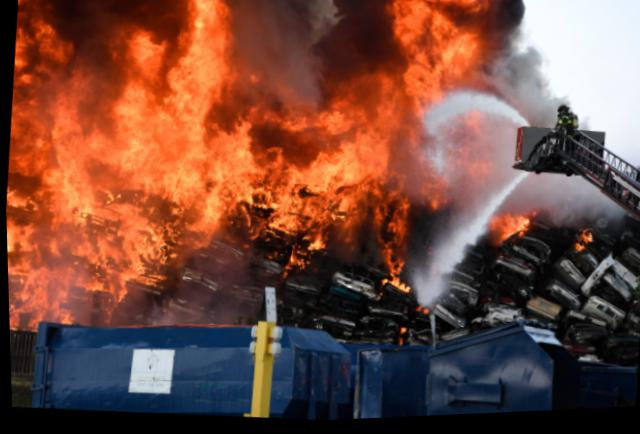fire: (2, 76, 107, 331), (211, 98, 405, 226), (87, 36, 175, 281), (155, 0, 226, 218), (404, 0, 475, 92), (12, 12, 72, 79)
smoke: (235, 0, 391, 76), (515, 50, 556, 131), (523, 185, 606, 222), (266, 67, 362, 97), (490, 125, 509, 176)
